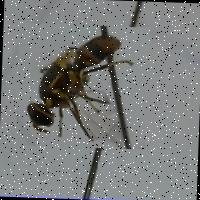Oriental-fruit-fly: (14, 24, 148, 150)
